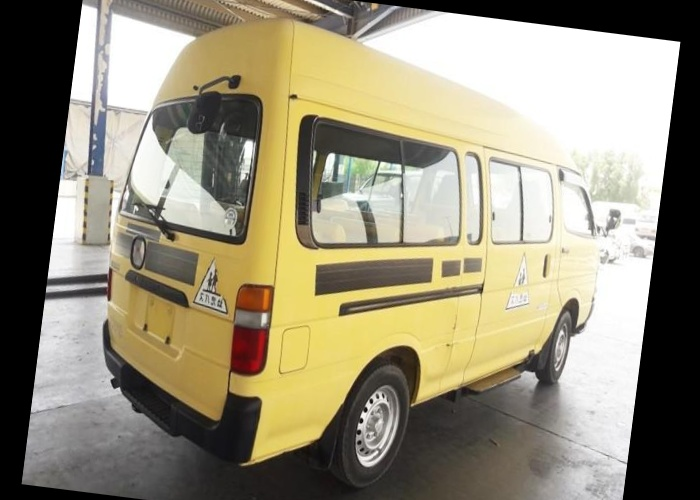van: (87, 1, 645, 499)
